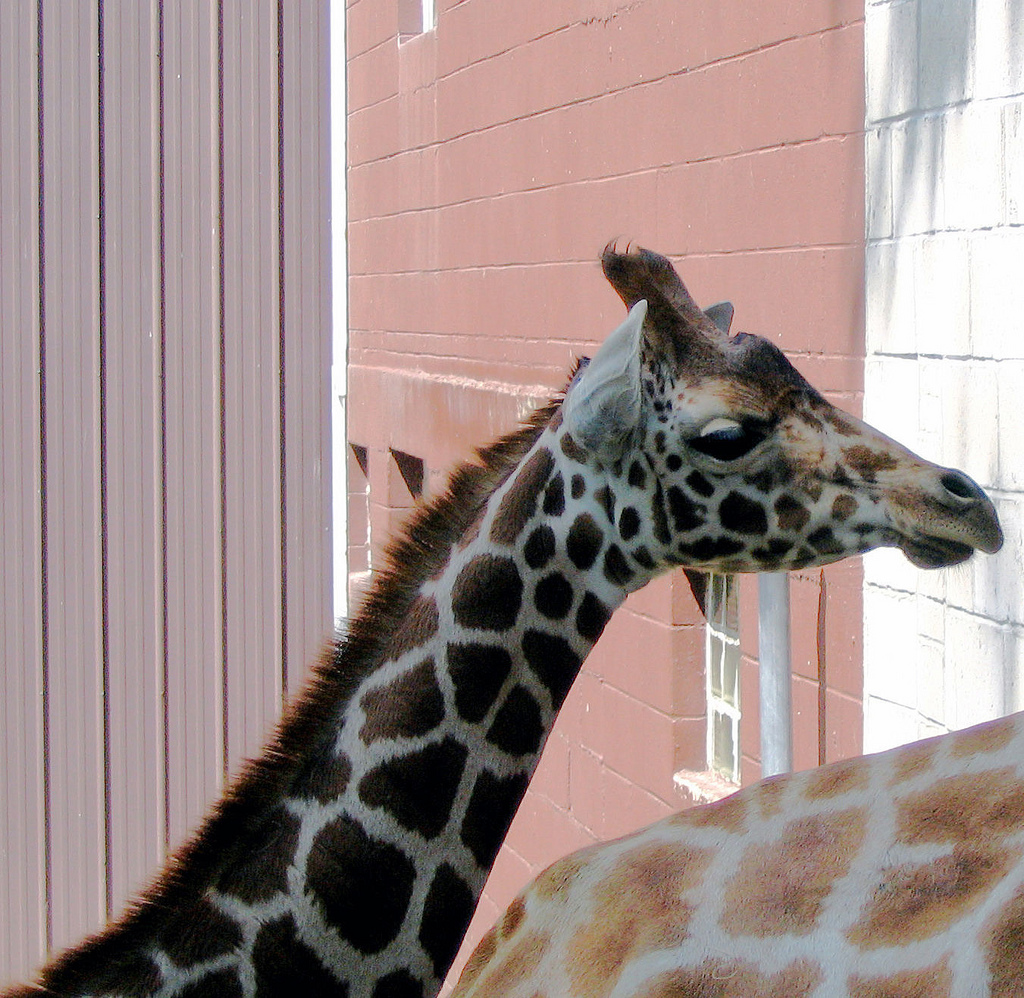giraffe: (107, 251, 985, 956)
